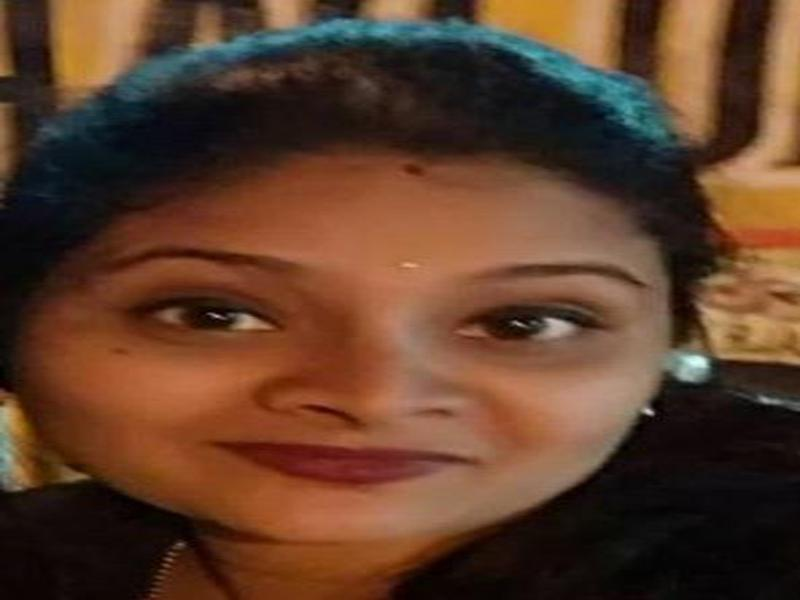without_mask: (19, 151, 665, 542)
